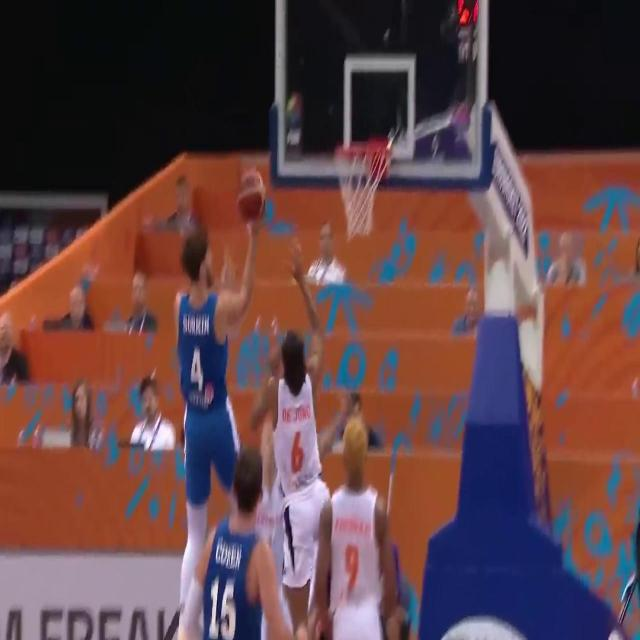basketball: (239, 169, 269, 225)
hoop: (335, 138, 394, 240)
